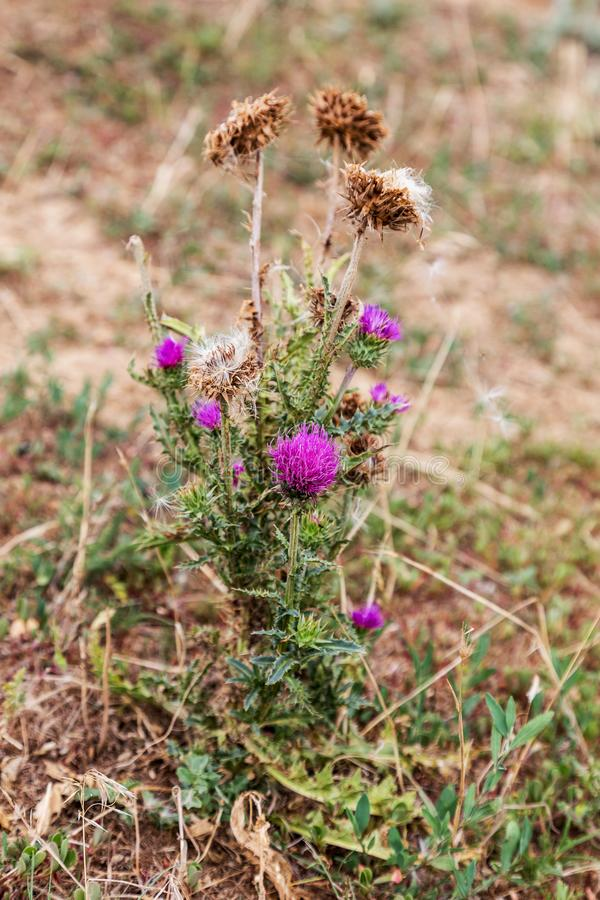thistle: (267, 427, 349, 515), (342, 299, 406, 371), (141, 344, 197, 400)
